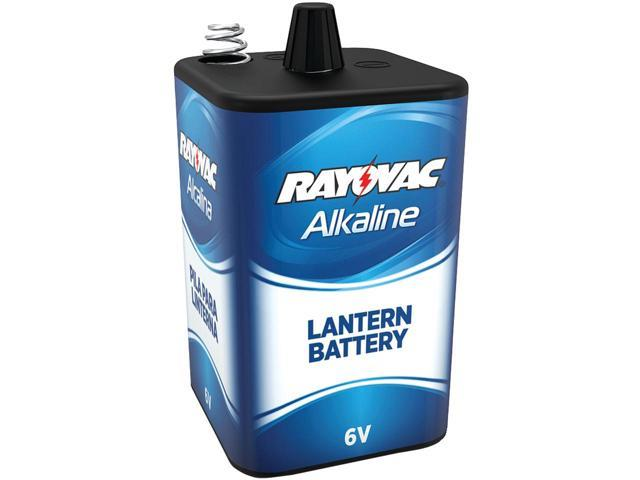6V: (165, 5, 476, 477)
